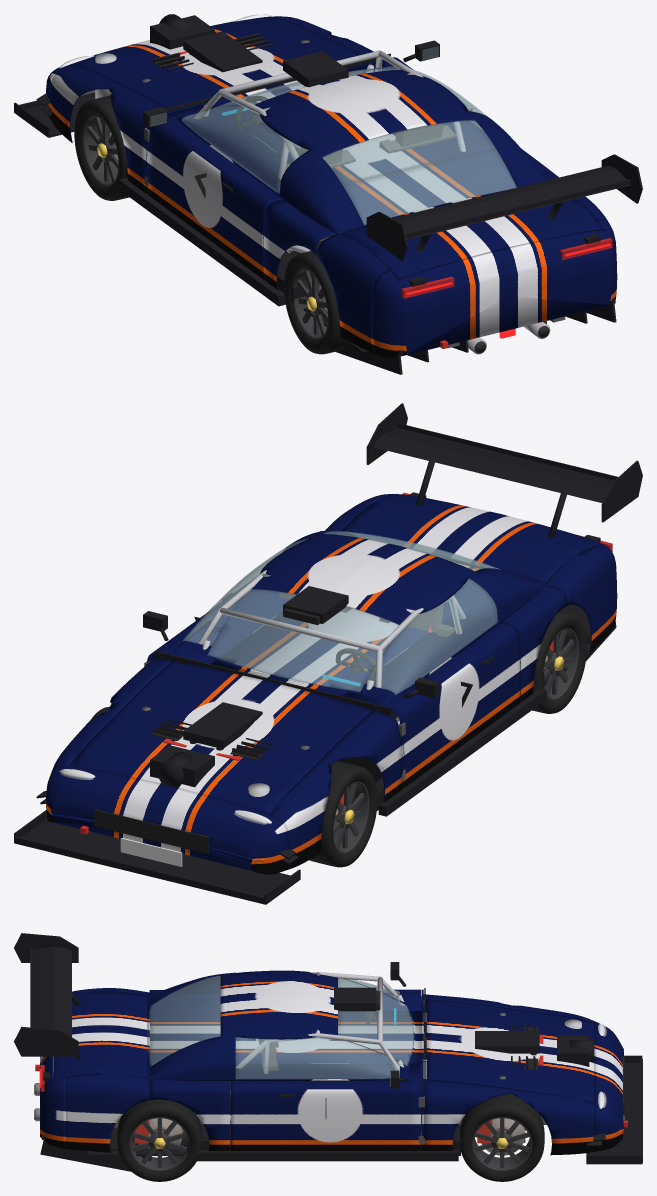
Rendered from sedan.glb.
3 views of the same model, one above another, from view 1: azimuth 30°, elevation 25°; view 2: azimuth 150°, elevation 25°; view 3: azimuth 270°, elevation 25° (orthographic). The views are drawn at different scales.
Visible parts, largest first — view 1: Bumper_R, Roof_Pillars, Body_Sides, Door_FL, Rear_Glass, Hood, RearWing, Trunk, Body_Rear, Window_FL, Fender_L, SideSkirt_L (+19 smaller); view 2: Hood, Roof_Pillars, Door_FL, Body_Sides, Bumper_F, Trunk, Windshield, RearWing, Splitter, Fender_L, Window_FL, Body_Rear (+18 smaller); view 3: Door_FR, Body_Sides, Roof_Pillars, Hood, Fender_R, Trunk, RearWing, Window_FR, Body_Rear, Rear_Glass, Tire_FR, Bumper_F (+17 smaller).
Boxes of the visible parts, left/top/right/bottom form: Bumper_R: left=371, top=219, right=617, bottom=357; Roof_Pillars: left=174, top=64, right=543, bottom=233; Body_Sides: left=145, top=57, right=558, bottom=289; Door_FL: left=147, top=104, right=290, bottom=279; Rear_Glass: left=322, top=120, right=516, bottom=225; Hood: left=70, top=16, right=358, bottom=107; RearWing: left=366, top=154, right=642, bottom=260; Trunk: left=340, top=194, right=602, bottom=279; Body_Rear: left=316, top=189, right=607, bottom=352; Window_FL: left=181, top=105, right=308, bottom=193; Fender_L: left=49, top=65, right=165, bottom=193; SideSkirt_L: left=118, top=177, right=285, bottom=306; Hood: left=69, top=661, right=372, bottom=814; Roof_Pillars: left=174, top=531, right=545, bottom=703; Door_FL: left=343, top=613, right=520, bottom=788; Body_Sides: left=147, top=531, right=567, bottom=789; Bumper_F: left=45, top=765, right=289, bottom=874; Trunk: left=342, top=494, right=602, bottom=582; Windshield: left=207, top=589, right=398, bottom=692; RearWing: left=366, top=403, right=642, bottom=537; Splitter: left=14, top=810, right=300, bottom=904; Fender_L: left=270, top=710, right=402, bottom=869; Window_FL: left=365, top=578, right=497, bottom=694; Body_Rear: left=325, top=494, right=613, bottom=652; Door_FR: left=231, top=1063, right=420, bottom=1150; Body_Sides: left=149, top=989, right=423, bottom=1150; Roof_Pillars: left=147, top=970, right=414, bottom=1080; Hood: left=426, top=999, right=594, bottom=1102; Fender_R: left=423, top=1079, right=594, bottom=1155; Trunk: left=54, top=991, right=147, bottom=1080; RearWing: left=14, top=933, right=81, bottom=1058; Window_FR: left=235, top=1037, right=399, bottom=1079; Body_Rear: left=66, top=988, right=149, bottom=1152; Rear_Glass: left=147, top=976, right=220, bottom=1066; Tire_FR: left=460, top=1094, right=544, bottom=1181; Bumper_F: left=594, top=1021, right=623, bottom=1151.
Size of the model in its own units: 2.21 by 1.35 by 5.05.
31 materials, 1 textured.
